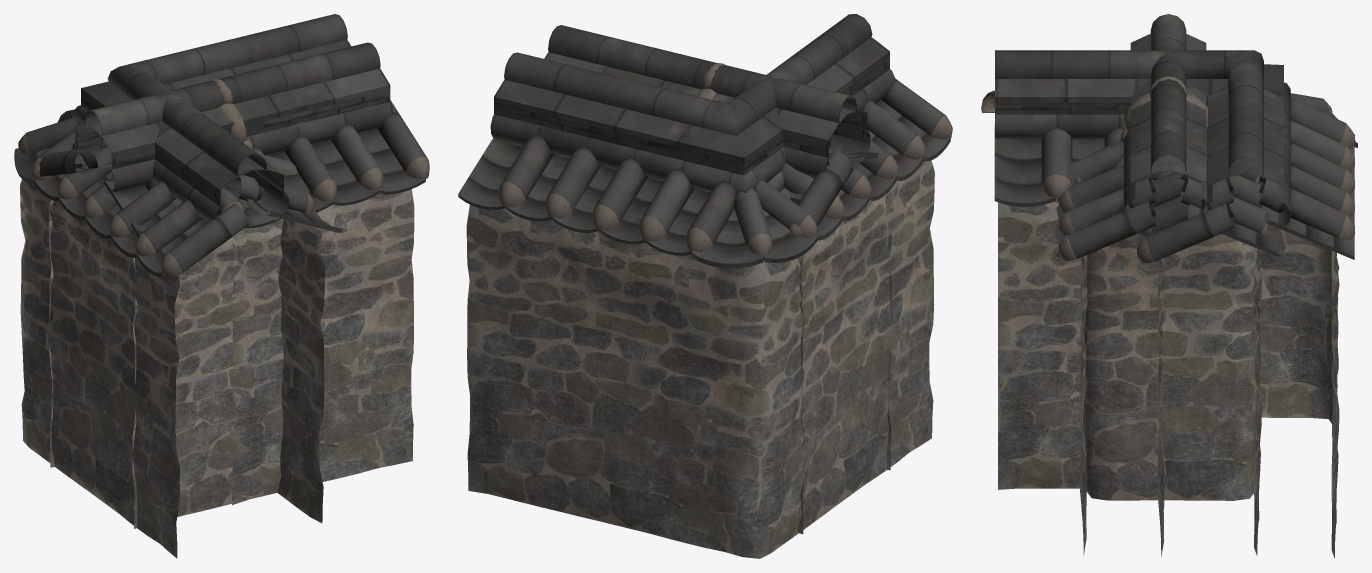
Rendered from wall.glb.
The picture shows the model from 3 angles, left to right: view 1: azimuth 30°, elevation 25°; view 2: azimuth 150°, elevation 25°; view 3: azimuth 270°, elevation 25°; orthographic projection. The views are drawn at different scales.
Parts seen in each view (by area): view 1: SM_24ET0030_02_M_24ET0030_stonewall_0, SM_24ET0030_01_M_24ET0030_stonewall_0, SM_24ET0030_01_M_24ET0030_roof_03_0, SM_24ET0030_02_M_24ET0030_roof_03_0, SM_24ET0030_02_M_24ET0030_roof_01_0, SM_24ET0030_03_M_24ET0030_stonewall_0, SM_24ET0030_01_M_24ET0030_roof_01_0, SM_24ET0030_01_M_24ET0030_roof_02_0, SM_24ET0030_02_M_24ET0030_roof_02_0, SM_24ET0030_03_M_24ET0030_roof_01_0, SM_24ET0030_03_M_24ET0030_roof_03_0; view 2: SM_24ET0030_02_M_24ET0030_stonewall_0, SM_24ET0030_02_M_24ET0030_roof_03_0, SM_24ET0030_02_M_24ET0030_roof_01_0, SM_24ET0030_02_M_24ET0030_roof_02_0, SM_24ET0030_01_M_24ET0030_roof_03_0, SM_24ET0030_01_M_24ET0030_roof_01_0, SM_24ET0030_01_M_24ET0030_stonewall_0, SM_24ET0030_03_M_24ET0030_roof_03_0; view 3: SM_24ET0030_03_M_24ET0030_stonewall_0, SM_24ET0030_02_M_24ET0030_stonewall_0, SM_24ET0030_02_M_24ET0030_roof_03_0, SM_24ET0030_02_M_24ET0030_roof_01_0, SM_24ET0030_01_M_24ET0030_roof_01_0, SM_24ET0030_01_M_24ET0030_roof_03_0, SM_24ET0030_02_M_24ET0030_roof_02_0, SM_24ET0030_01_M_24ET0030_stonewall_0, SM_24ET0030_01_M_24ET0030_roof_02_0, SM_24ET0030_03_M_24ET0030_roof_01_0, SM_24ET0030_03_M_24ET0030_roof_03_0.
Part boxes in pixels (x1,y1,x2,y2): SM_24ET0030_02_M_24ET0030_stonewall_0: (20,179,324,558); SM_24ET0030_01_M_24ET0030_stonewall_0: (48,189,414,528); SM_24ET0030_01_M_24ET0030_roof_03_0: (71,42,393,193); SM_24ET0030_02_M_24ET0030_roof_03_0: (72,14,351,221); SM_24ET0030_02_M_24ET0030_roof_01_0: (15,109,342,277); SM_24ET0030_03_M_24ET0030_stonewall_0: (231,223,283,505); SM_24ET0030_01_M_24ET0030_roof_01_0: (39,100,429,236); SM_24ET0030_01_M_24ET0030_roof_02_0: (82,128,425,234); SM_24ET0030_02_M_24ET0030_roof_02_0: (14,147,329,273); SM_24ET0030_03_M_24ET0030_roof_01_0: (212,79,297,224); SM_24ET0030_03_M_24ET0030_roof_03_0: (196,89,234,133); SM_24ET0030_02_M_24ET0030_stonewall_0: (466,160,934,558); SM_24ET0030_02_M_24ET0030_roof_03_0: (490,14,895,193); SM_24ET0030_02_M_24ET0030_roof_01_0: (458,78,952,268); SM_24ET0030_02_M_24ET0030_roof_02_0: (458,100,949,263); SM_24ET0030_01_M_24ET0030_roof_03_0: (544,25,870,178); SM_24ET0030_01_M_24ET0030_roof_01_0: (768,137,900,236); SM_24ET0030_01_M_24ET0030_stonewall_0: (798,190,892,534); SM_24ET0030_03_M_24ET0030_roof_03_0: (708,71,740,103); SM_24ET0030_03_M_24ET0030_stonewall_0: (1080,233,1259,500); SM_24ET0030_02_M_24ET0030_stonewall_0: (998,198,1339,558); SM_24ET0030_02_M_24ET0030_roof_03_0: (995,50,1290,231); SM_24ET0030_02_M_24ET0030_roof_01_0: (981,90,1357,263); SM_24ET0030_01_M_24ET0030_roof_01_0: (1056,141,1280,260); SM_24ET0030_01_M_24ET0030_roof_03_0: (1124,14,1212,213); SM_24ET0030_02_M_24ET0030_roof_02_0: (994,114,1355,256); SM_24ET0030_01_M_24ET0030_stonewall_0: (1080,247,1261,555); SM_24ET0030_01_M_24ET0030_roof_02_0: (1056,202,1280,253); SM_24ET0030_03_M_24ET0030_roof_01_0: (1077,76,1258,182); SM_24ET0030_03_M_24ET0030_roof_03_0: (1130,66,1206,104).
Bounding box in the file's own units: 1.68 × 1.99 × 1.69.
4 materials, 4 textured.
